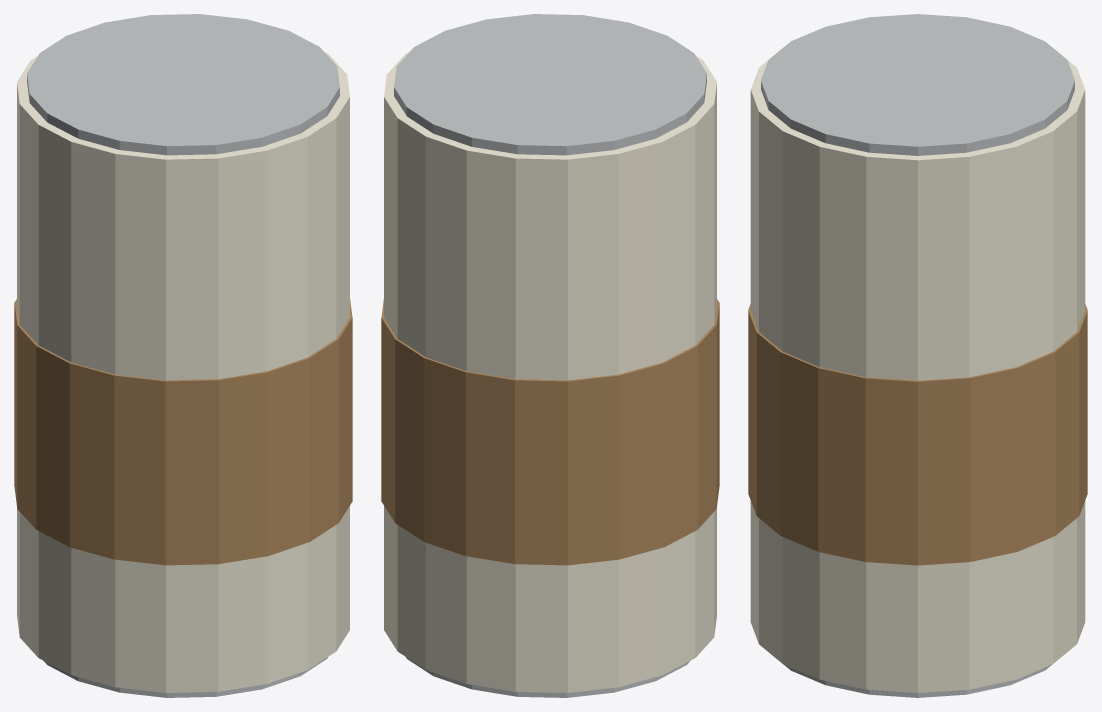
File: sikhye_can.mobile.glb
3 views of the same model, side by side, from view 1: azimuth 30°, elevation 25°; view 2: azimuth 150°, elevation 25°; view 3: azimuth 270°, elevation 25° (orthographic).
Visible parts, largest first — view 1: SikhyeCan; view 2: SikhyeCan; view 3: SikhyeCan.
Boxes of the visible parts, bbox=[...] form: SikhyeCan: bbox=[14, 14, 352, 697]; SikhyeCan: bbox=[381, 14, 719, 697]; SikhyeCan: bbox=[748, 14, 1087, 697].
Bounding box in the file's own units: 0.067 × 0.12 × 0.067.
